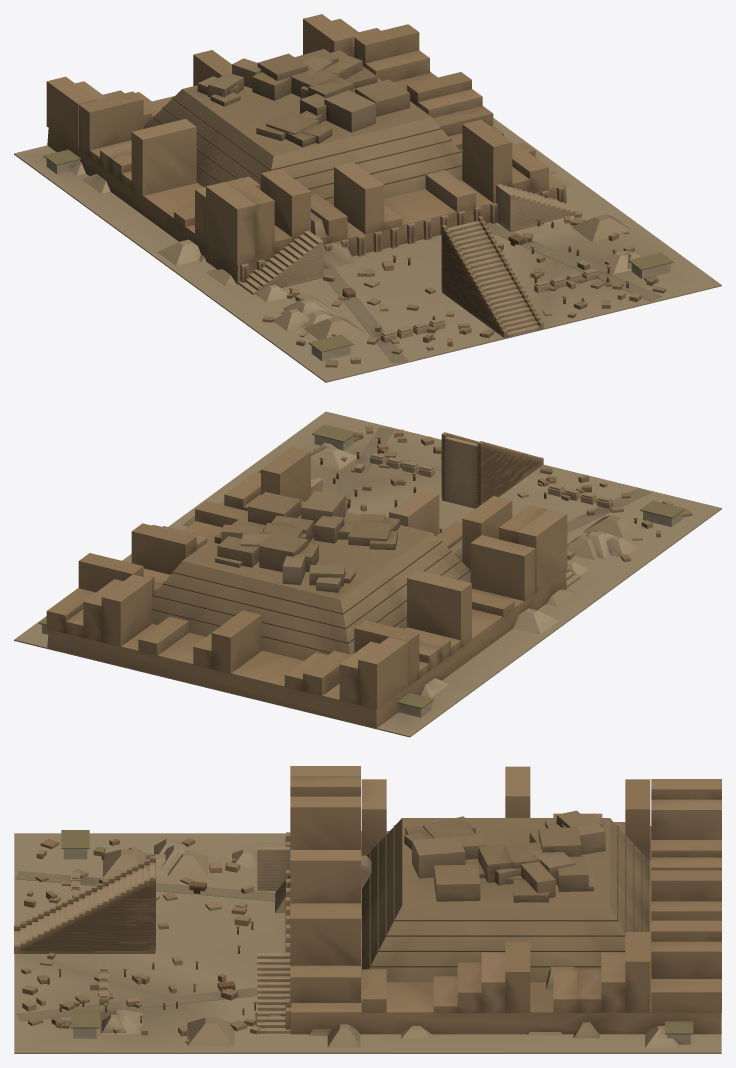
File: etemenanki-ruin.glb
The picture shows the model from 3 angles, top to bottom: view 1: azimuth 30°, elevation 25°; view 2: azimuth 150°, elevation 25°; view 3: azimuth 270°, elevation 25°; orthographic projection. The views are drawn at different scales.
Visible parts, largest first — view 1: p0_ruined tower, p1_rubble and clearance, p2_works; view 2: p0_ruined tower, p1_rubble and clearance, p2_works; view 3: p0_ruined tower, p1_rubble and clearance, p2_works.
Part boxes in pixels (<box>): p0_ruined tower: <box>14,14,721,382</box>; p1_rubble and clearance: <box>70,161,666,367</box>; p2_works: <box>43,149,673,361</box>; p0_ruined tower: <box>14,411,721,737</box>; p1_rubble and clearance: <box>41,426,692,697</box>; p2_works: <box>39,424,684,717</box>; p0_ruined tower: <box>14,766,721,1053</box>; p1_rubble and clearance: <box>14,838,679,1047</box>; p2_works: <box>47,826,693,1044</box>.
Bounding box in the file's own units: 110 × 25.05 × 150.
